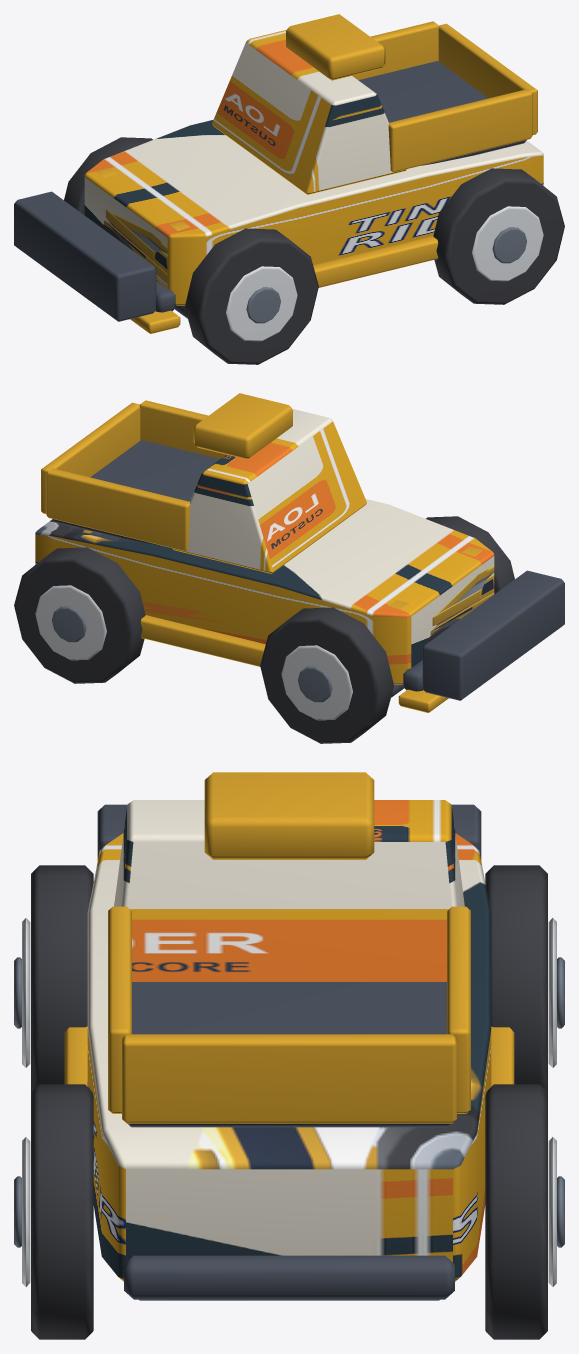
The picture shows the model from 3 angles, top to bottom: view 1: azimuth 30°, elevation 25°; view 2: azimuth 150°, elevation 25°; view 3: azimuth 270°, elevation 25°; orthographic projection. The views are drawn at different scales.
Parts seen in each view (by area): view 1: WY-05_connected_shell, WY-05_cabin, loader bucket, Tire, Tire.002, cargo side, cargo floor, custom equipment, cargo tail, Rim.002, Rim, custom side guard (+6 smaller); view 2: WY-05_connected_shell, WY-05_cabin, loader bucket, Tire.001, Tire.003, cargo side.001, cargo floor, custom equipment, cargo tail, Rim.003, Rim.001, custom side guard.001 (+6 smaller); view 3: WY-05_connected_shell, WY-05_cabin, cargo tail, cargo floor, Tire.002, Tire.003, custom equipment, rear bumper, Tire, Tire.001, cargo side, cargo side.001 (+7 smaller).
Boxes of the visible parts, left/top/right/bottom form: WY-05_connected_shell: left=84, top=120, right=543, bottom=305; WY-05_cabin: left=212, top=29, right=406, bottom=194; loader bucket: left=14, top=191, right=156, bottom=321; Tire: left=185, top=228, right=318, bottom=364; Tire.002: left=433, top=168, right=564, bottom=304; cargo side: left=388, top=89, right=532, bottom=172; cargo floor: left=358, top=61, right=526, bottom=165; custom equipment: left=286, top=14, right=385, bottom=80; cargo tail: left=438, top=23, right=537, bottom=134; Rim.002: left=472, top=206, right=543, bottom=281; Rim: left=226, top=266, right=297, bottom=341; custom side guard: left=313, top=236, right=438, bottom=287; WY-05_connected_shell: left=35, top=499, right=494, bottom=684; WY-05_cabin: left=172, top=408, right=366, bottom=573; loader bucket: left=422, top=570, right=564, bottom=700; Tire.001: left=260, top=607, right=393, bottom=743; Tire.003: left=14, top=547, right=145, bottom=683; cargo side.001: left=46, top=468, right=190, bottom=551; cargo floor: left=52, top=440, right=220, bottom=544; custom equipment: left=193, top=393, right=292, bottom=459; cargo tail: left=41, top=402, right=140, bottom=513; Rim.003: left=35, top=585, right=106, bottom=660; Rim.001: left=281, top=645, right=352, bottom=720; custom side guard.001: left=140, top=615, right=265, bottom=666; WY-05_connected_shell: left=87, top=833, right=491, bottom=1281; WY-05_cabin: left=114, top=800, right=464, bottom=981; cargo tail: left=122, top=1034, right=456, bottom=1123; cargo floor: left=127, top=982, right=451, bottom=1127; Tire.002: left=31, top=1084, right=93, bottom=1339; Tire.003: left=485, top=1084, right=547, bottom=1339; custom equipment: left=204, top=772, right=374, bottom=859; rear bumper: left=124, top=1255, right=454, bottom=1299; Tire: left=31, top=865, right=93, bottom=1092; Tire.001: left=485, top=865, right=547, bottom=1092; cargo side: left=108, top=906, right=131, bottom=1113; cargo side.001: left=447, top=906, right=470, bottom=1113.
Size of the model in its own units: 389 by 203 by 228.
